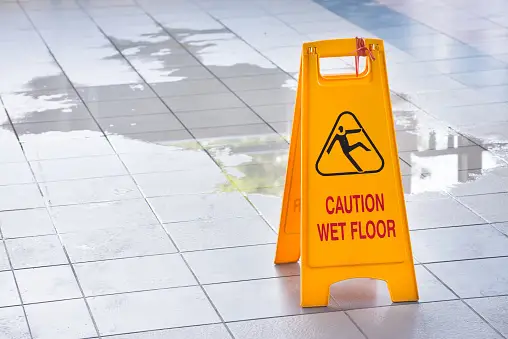wet caution sign: (286, 39, 421, 308)
